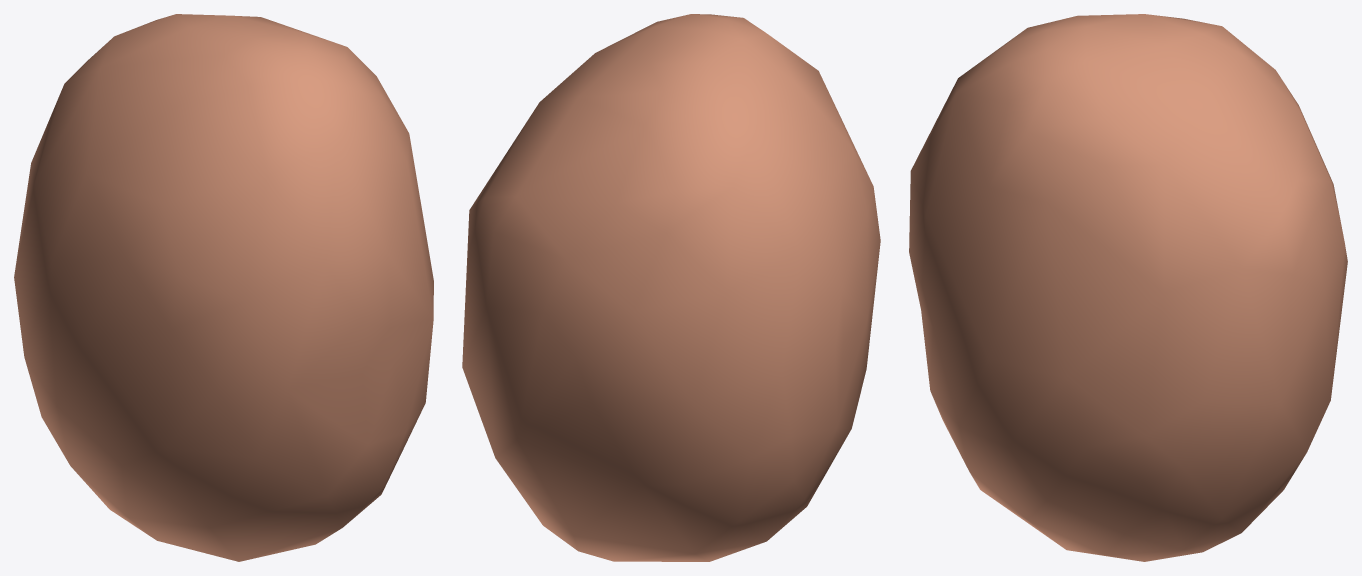
File: testis-r.glb
3 renders of one model, left to right at view 1: azimuth 30°, elevation 25°; view 2: azimuth 150°, elevation 25°; view 3: azimuth 270°, elevation 25°, orthographic. The views are drawn at different scales.
Parts seen in each view (by area): view 1: Testis.r; view 2: Testis.r; view 3: Testis.r.
Part boxes in pixels (box(x1,y1,x2,y2)): Testis.r: box(14, 14, 433, 561); Testis.r: box(462, 14, 880, 561); Testis.r: box(909, 14, 1347, 561).
Size of the model in its own units: 0.0214 by 0.0298 by 0.0233.
